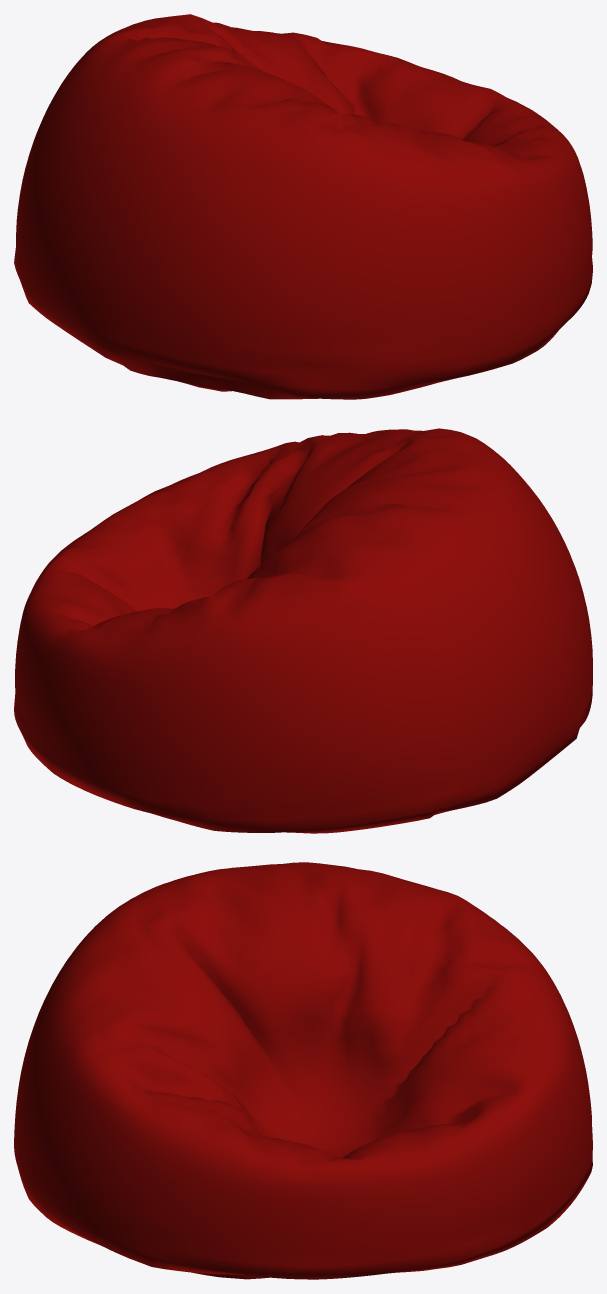
The model's file is Pufe.fbx.
3 renders of one model, top to bottom at view 1: azimuth 30°, elevation 25°; view 2: azimuth 150°, elevation 25°; view 3: azimuth 270°, elevation 25°, orthographic.
Visible parts, largest first — view 1: Pufe; view 2: Pufe; view 3: Pufe.
Part boxes in pixels (bbox=[...]): Pufe: bbox=[14, 14, 592, 399]; Pufe: bbox=[14, 428, 592, 833]; Pufe: bbox=[14, 862, 592, 1279].
Bounding box in the file's own units: 170 × 79.78 × 174.
